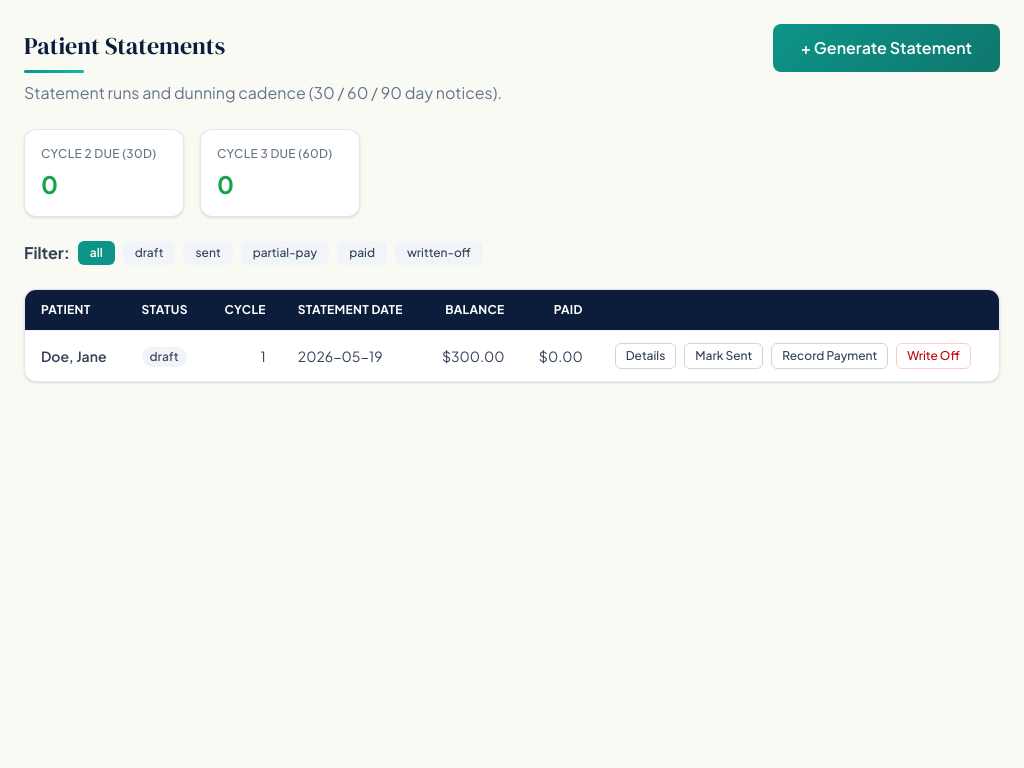
Test: StatementsPage › opens detail panel with line items
This screenshot has width=1024, height=768.
What coordinates should you click on to do the following:
click the button "Details"
I would click on:
 (646, 356)
Its box is [615,343,676,369].
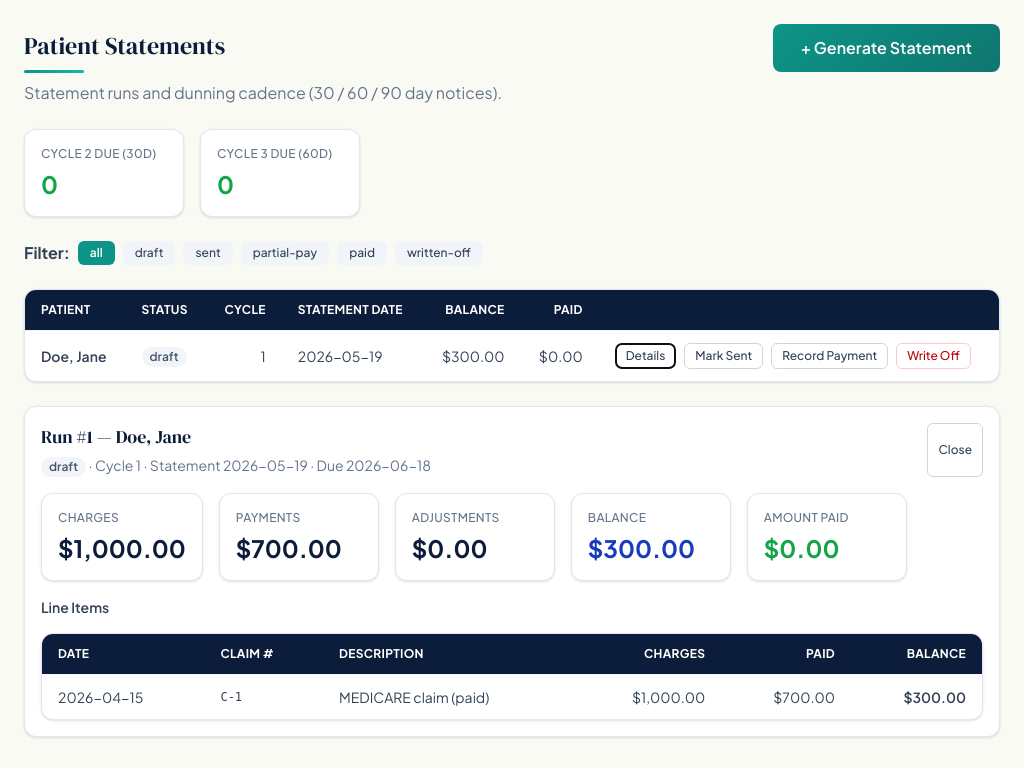
Check: the heading "Run #1 — Doe, Jane" is shown, box [41,424,191,449]
Check: the heading "Line Items" is shown, box [41,598,109,616]
Check: the text "C-1" is shown, box [204,674,323,719]
